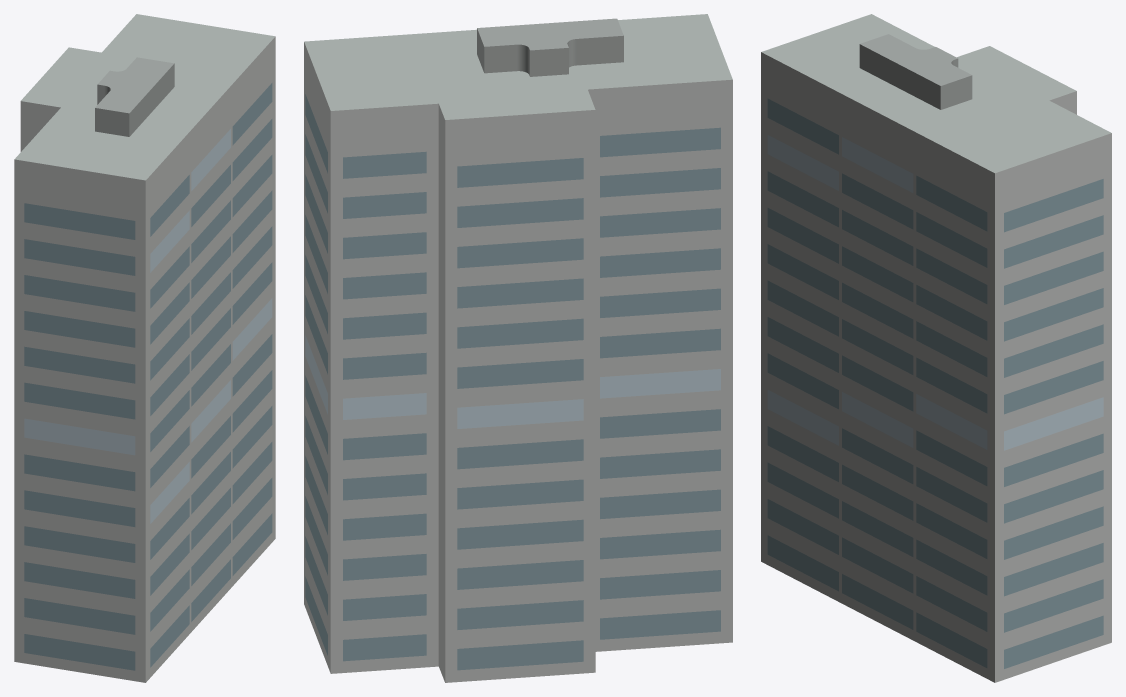
Rendered from fallback-gaepo-raemian-forest-105.glb.
3 renders of one model, left to right at view 1: azimuth 30°, elevation 25°; view 2: azimuth 150°, elevation 25°; view 3: azimuth 270°, elevation 25°, orthographic. The views are drawn at different scales.
Visible parts, largest first — view 1: fallback-gaepo-raemian-forest-105; view 2: fallback-gaepo-raemian-forest-105; view 3: fallback-gaepo-raemian-forest-105.
Part boxes in pixels (left/top/right/bottom): fallback-gaepo-raemian-forest-105: left=14, top=14, right=275, bottom=682; fallback-gaepo-raemian-forest-105: left=304, top=14, right=732, bottom=682; fallback-gaepo-raemian-forest-105: left=761, top=14, right=1111, bottom=682.
Size of the model in its own units: 28.18 by 44 by 26.22.
